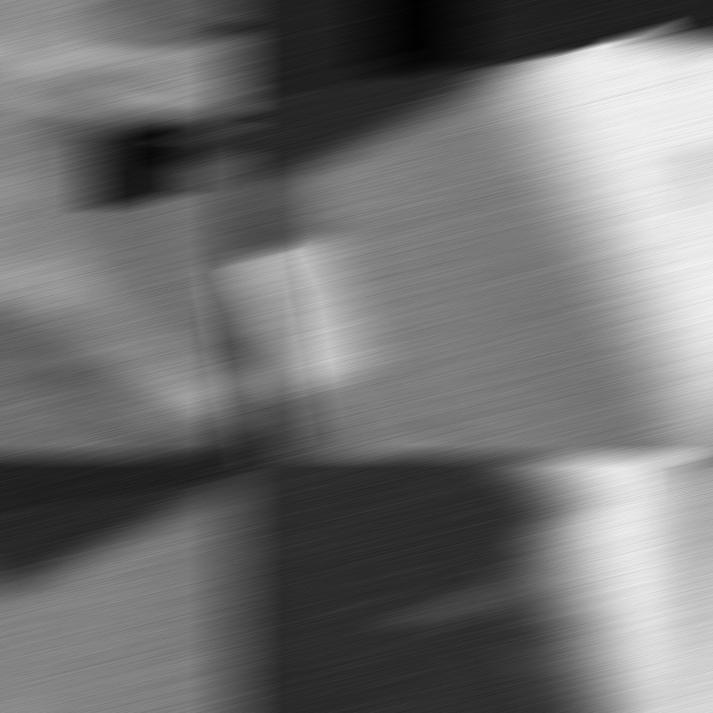Airbag: (223, 16, 713, 453), (223, 458, 713, 710), (0, 2, 246, 453), (0, 458, 246, 710)
